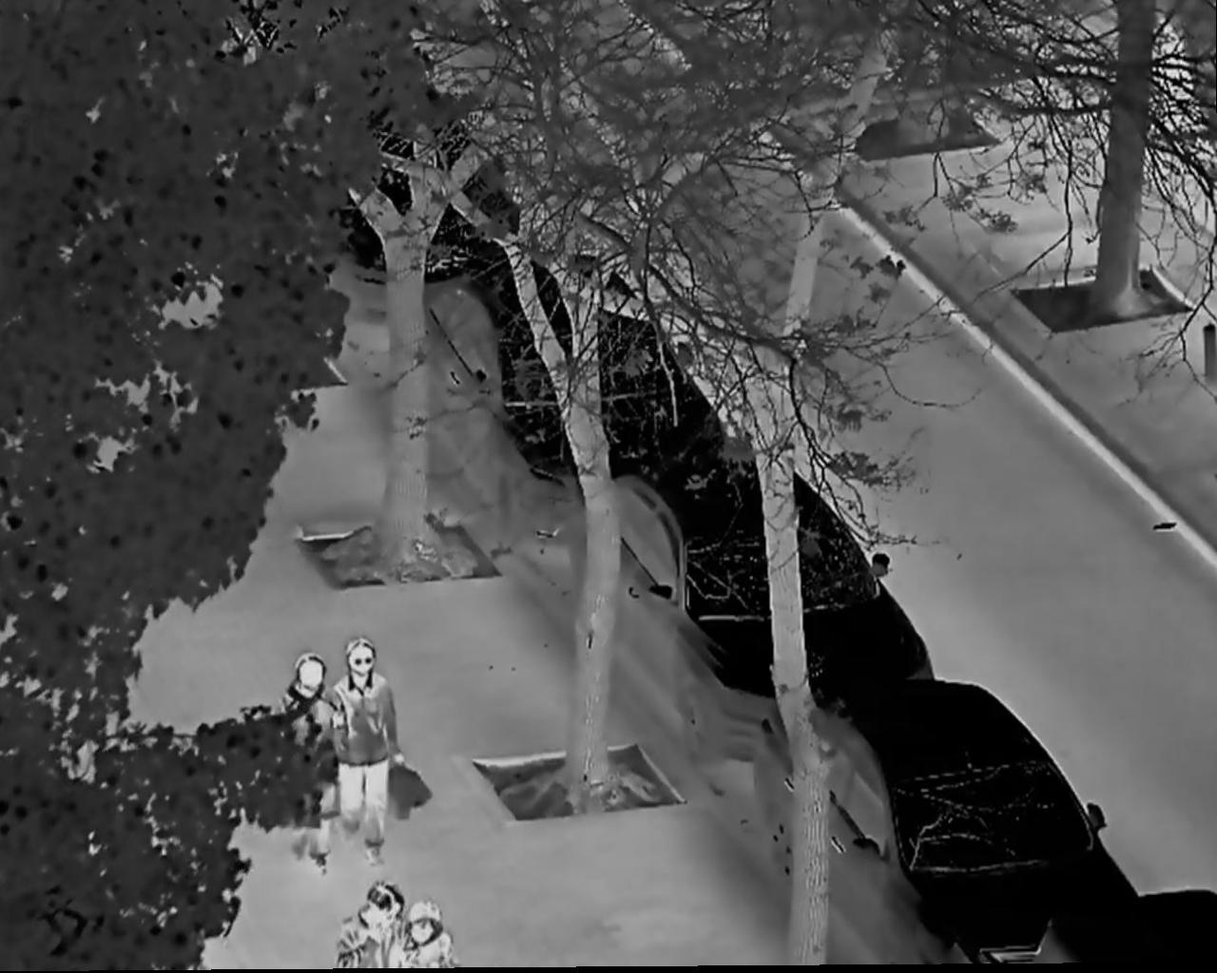person: (325, 639, 404, 862), (271, 654, 330, 871), (337, 882, 410, 973), (401, 903, 461, 973)
